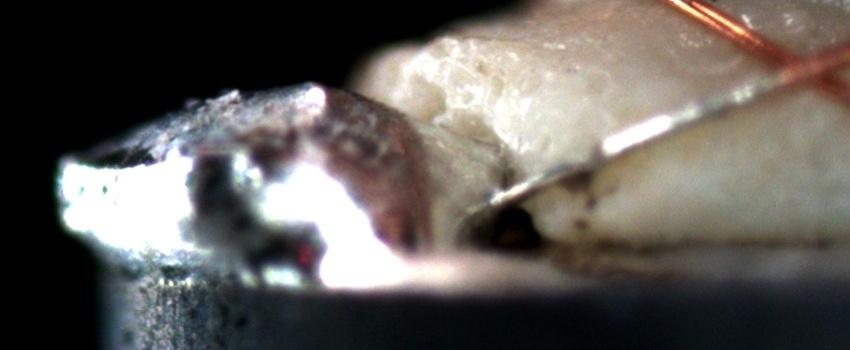TS: (484, 73, 785, 214)
